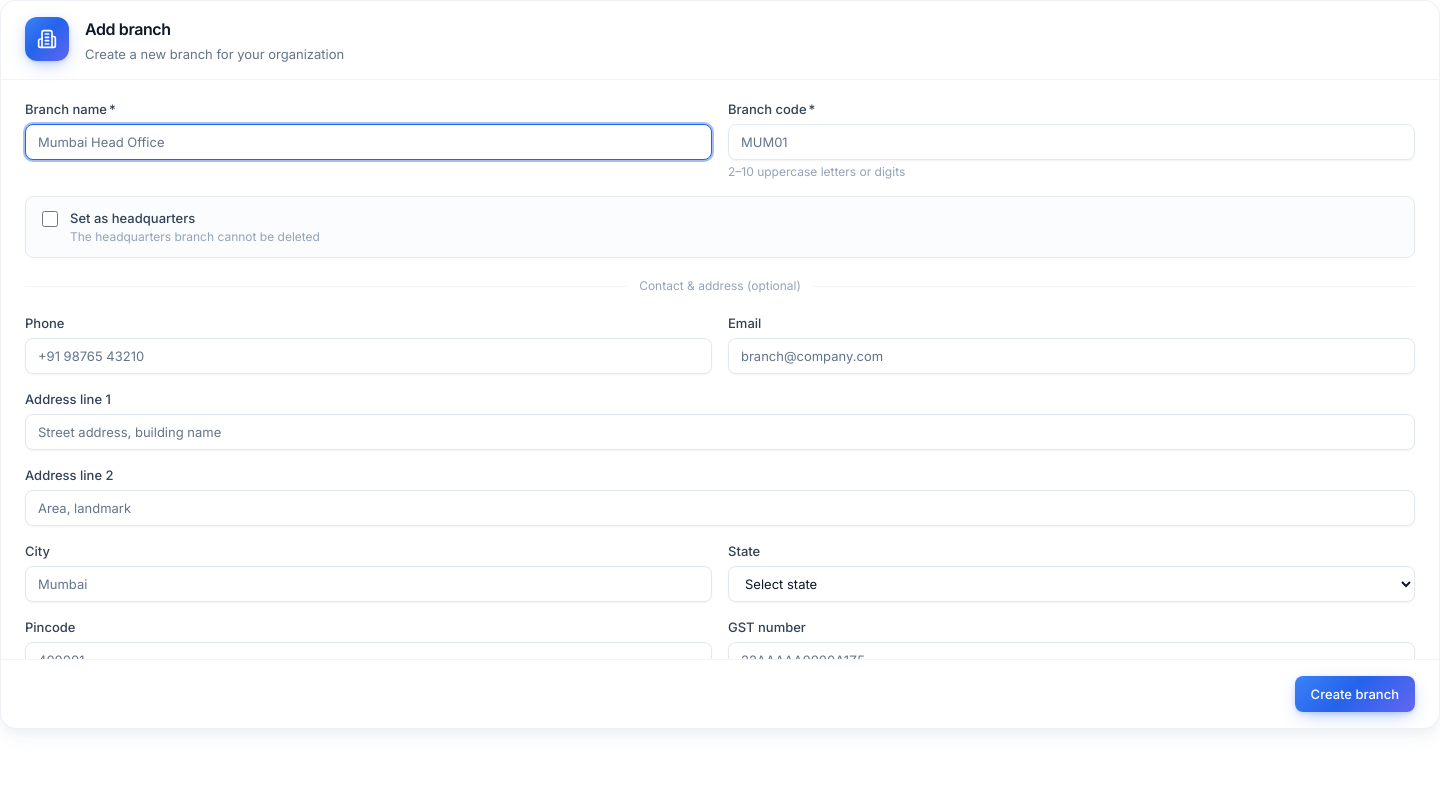
Test: BranchForm — create mode › shows validation errors and does not submit when required fields are invalid
In the field labelled "Branch code*": (1072, 142) 728,124 -> 1415,160, type "a"
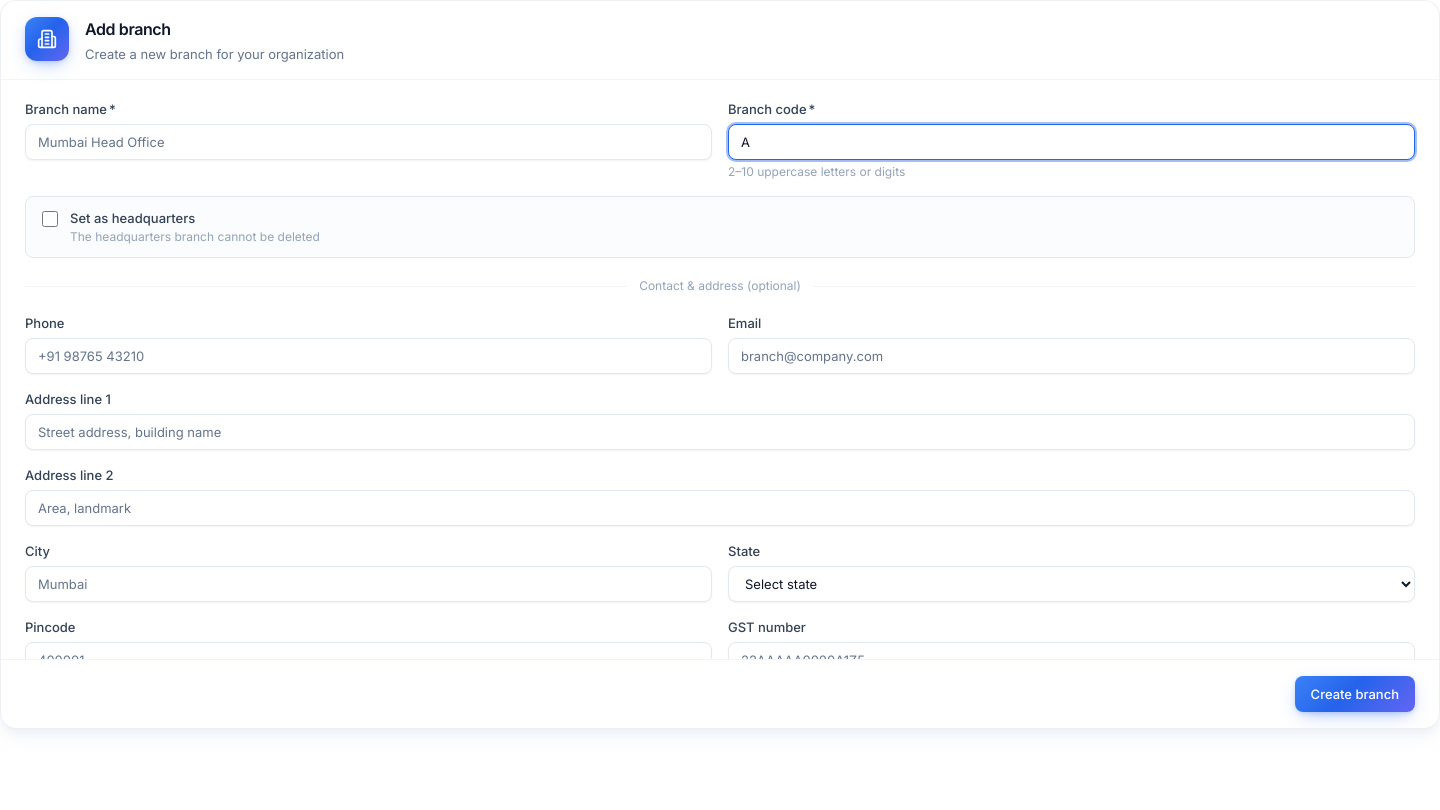
Click the button "Create branch": (1355, 694) 1295,676 -> 1415,712
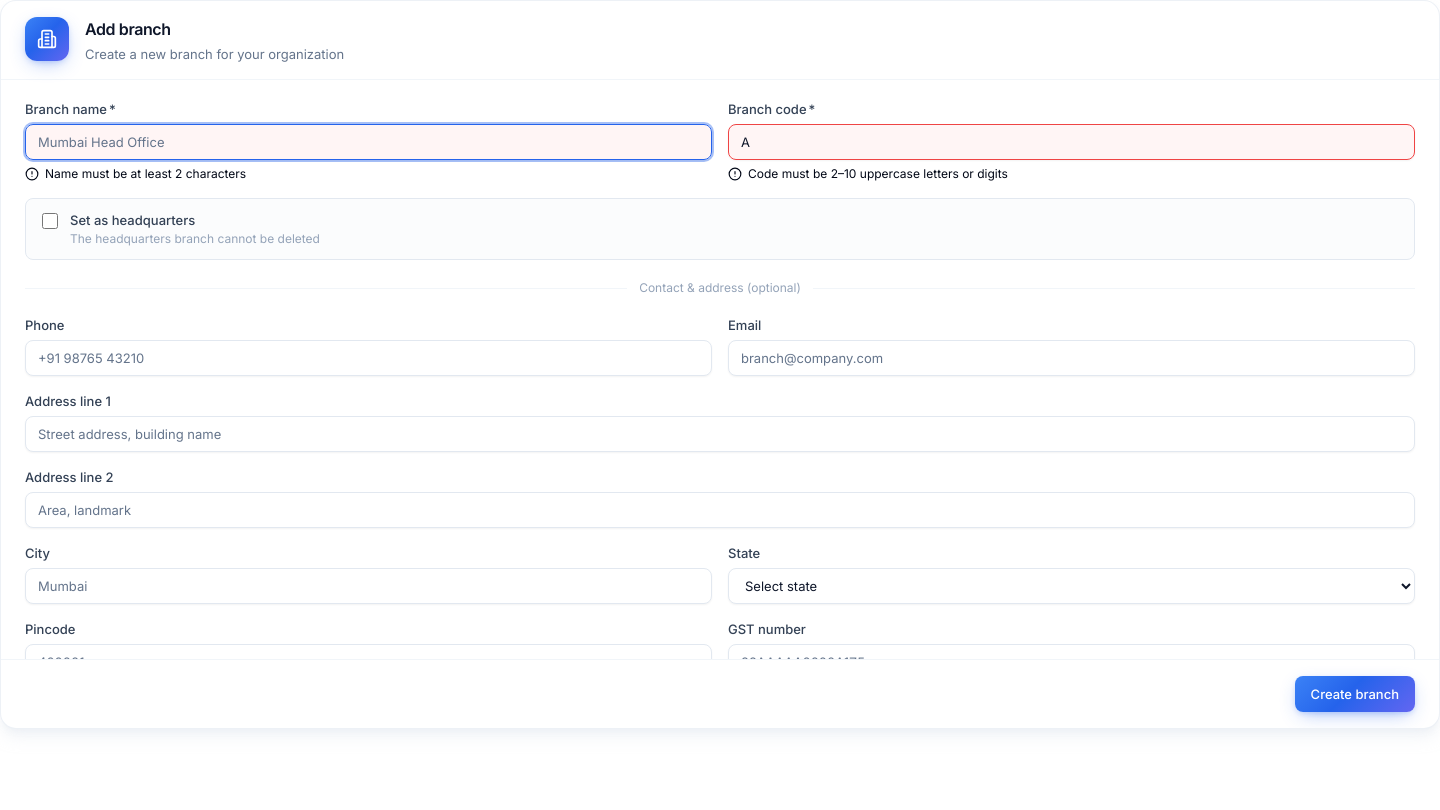
Now the text "Name must be at least 2 characters" is shown, box 25,166 -> 246,181
